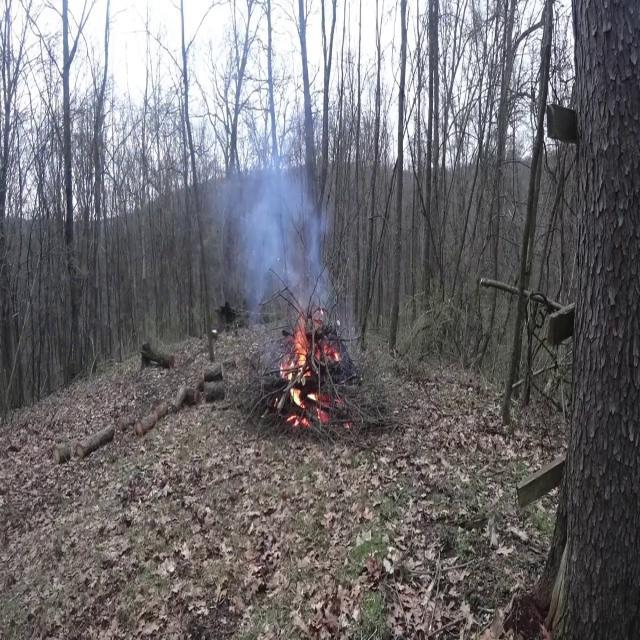Smoke: (218, 124, 328, 332)
